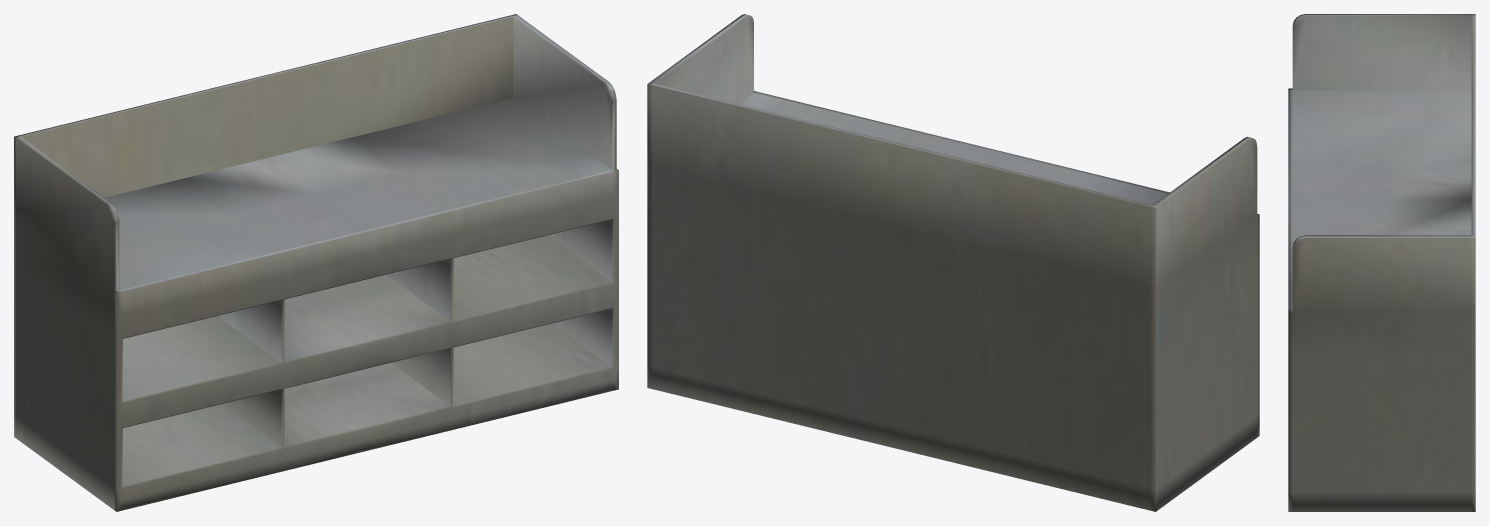
The model's file is postOffice_wallMount.obj.
3 renders of one model, left to right at view 1: azimuth 30°, elevation 25°; view 2: azimuth 150°, elevation 25°; view 3: azimuth 270°, elevation 25°, orthographic. The views are drawn at different scales.
Visible parts, largest first — view 1: postOffice_wallMount.obj; view 2: postOffice_wallMount.obj; view 3: postOffice_wallMount.obj.
Part boxes in pixels (x1,y1,x2,y2): postOffice_wallMount.obj: (14, 14, 618, 511); postOffice_wallMount.obj: (647, 14, 1259, 511); postOffice_wallMount.obj: (1288, 14, 1475, 511).
Bounding box in the file's own units: 15.35 × 8.77 × 5.43.
